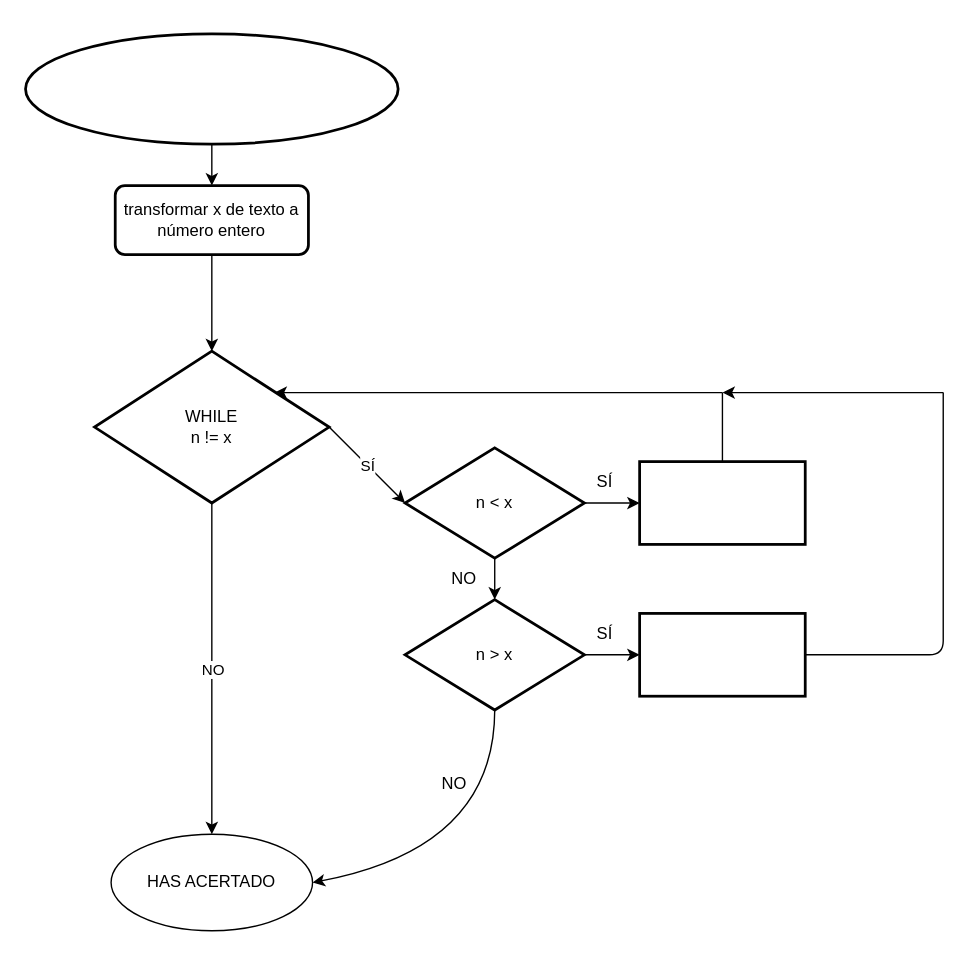
Image size: 978x955. Some labels were removed from this diagram. Each missing label, with the centre of its shape:
n = número aleatorio entre 1 y 99 x = input usuario número entre 1 y 99: the point at 211,88
TE HAS PASADO: the point at 722,654
TE HAS QUEDADO CORTO: the point at 722,502
